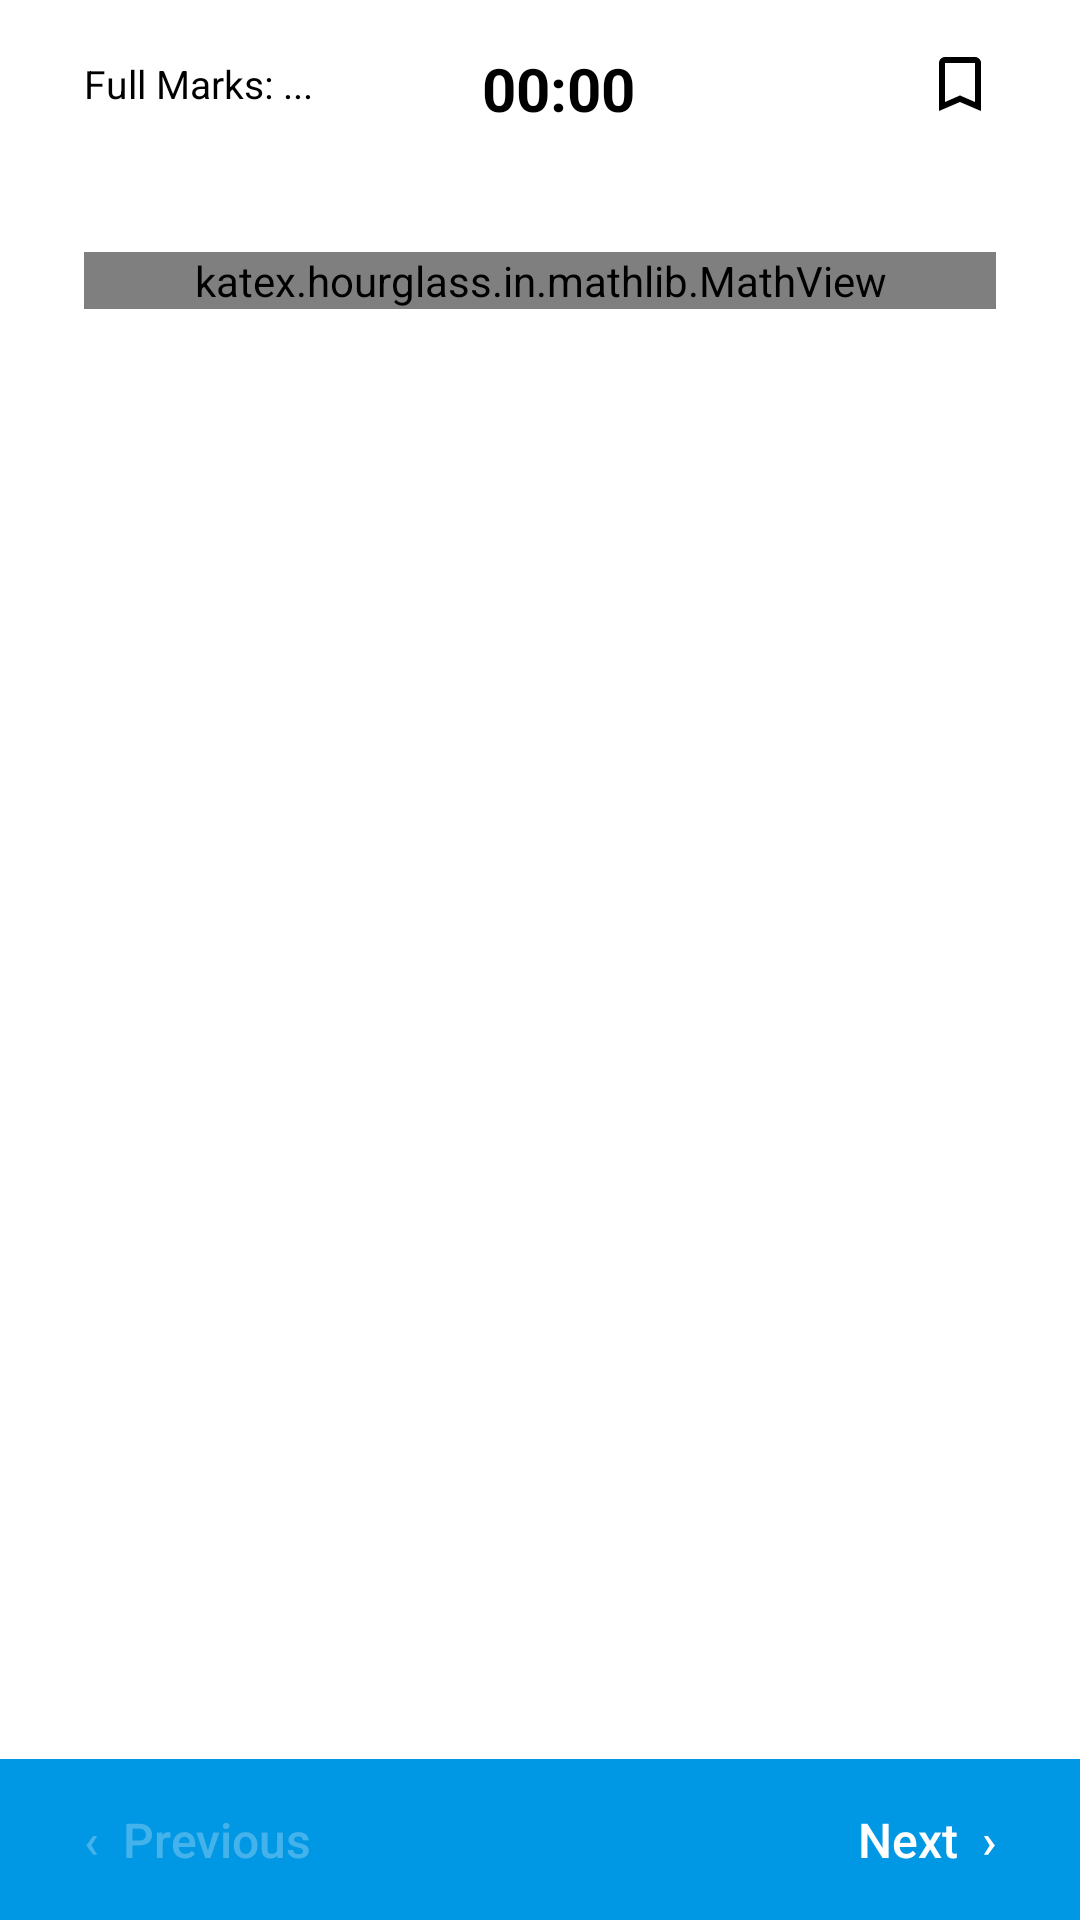

Icons on this 1080*1920 Android screen, each with the point to tap as point (x, y):
bookmark border: point (960, 84)
